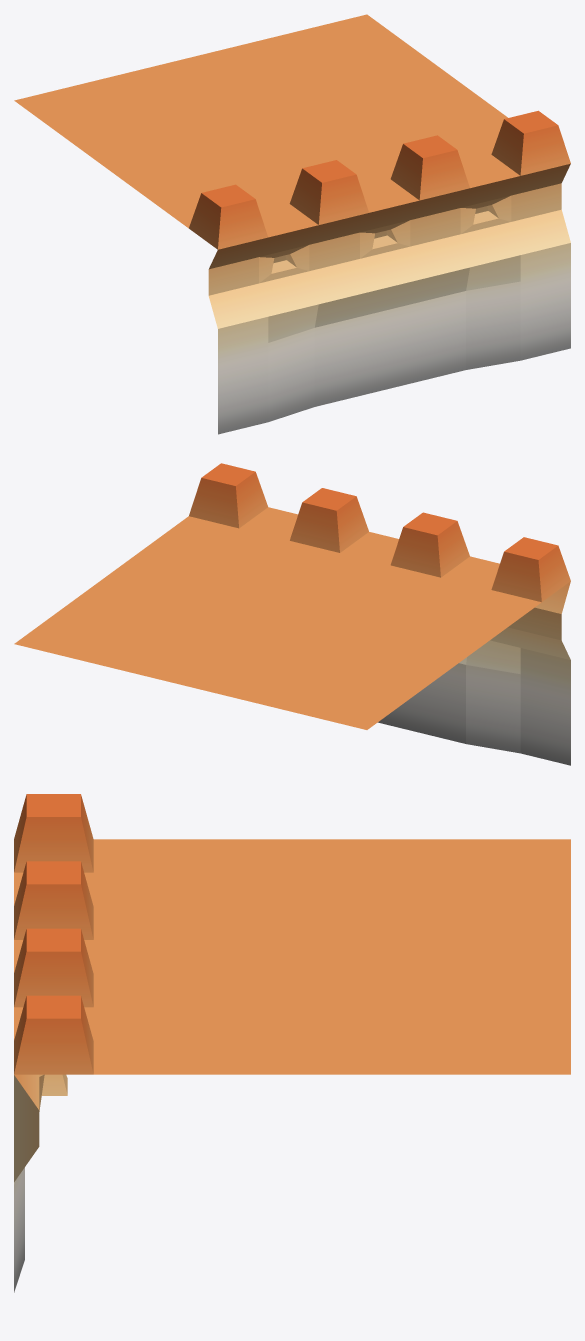
File: sFort2.001.fbx
The picture shows the model from 3 angles, top to bottom: view 1: azimuth 30°, elevation 25°; view 2: azimuth 150°, elevation 25°; view 3: azimuth 270°, elevation 25°; orthographic projection. The views are drawn at different scales.
Parts seen in each view (by area): view 1: sFort2.001; view 2: sFort2.001; view 3: sFort2.001.
Boxes of the visible parts, x1,y1,x2,y2 form: sFort2.001: (14, 14, 570, 434); sFort2.001: (14, 463, 570, 765); sFort2.001: (14, 794, 570, 1292).
Bounding box in the file's own units: 100 × 60 × 100.
